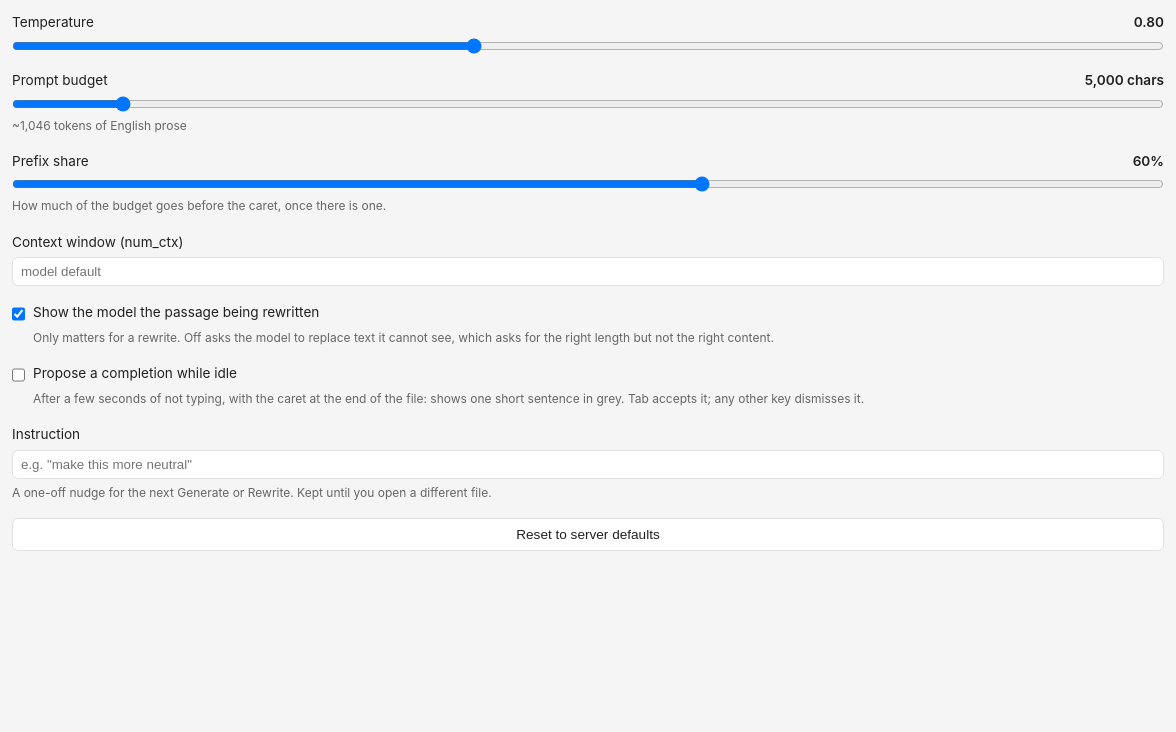
Scenario: GenerationSettings.vue › reset restores the servers defaults
Set the slider below "Temperature" to "1.9" at [1099, 46], box [12,38,1164,54]
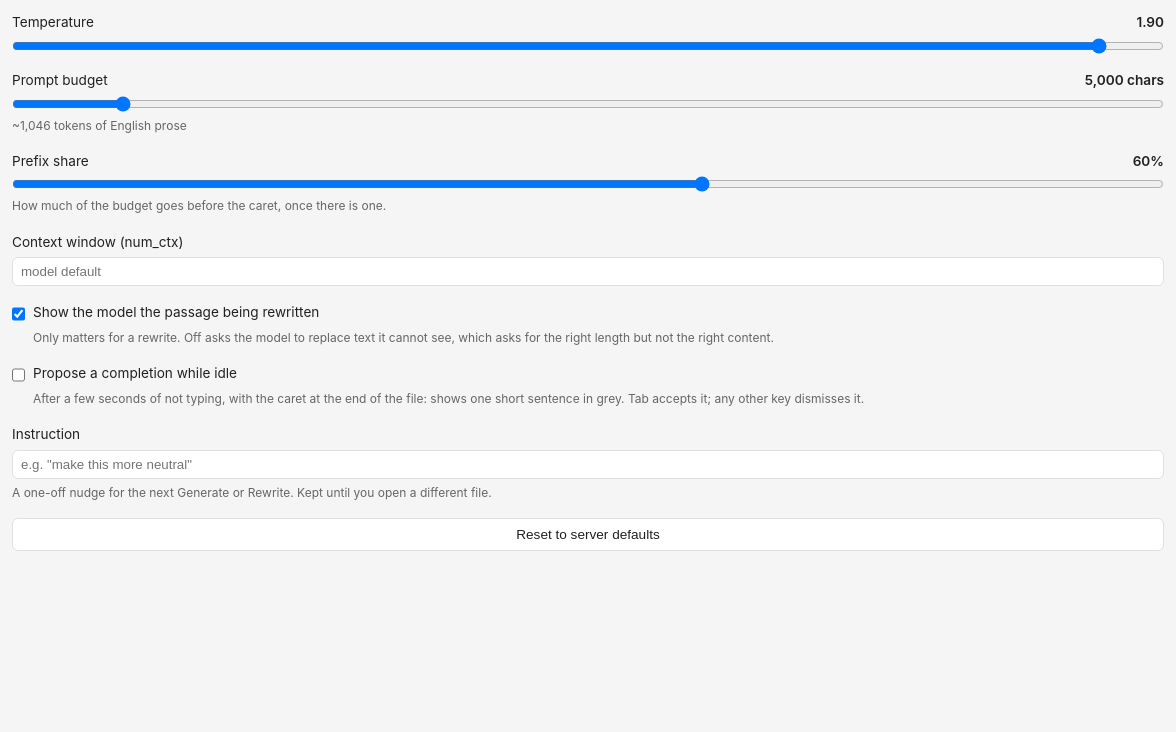
Click the button with class "reset" at [588, 535], box [12,518,1164,551]
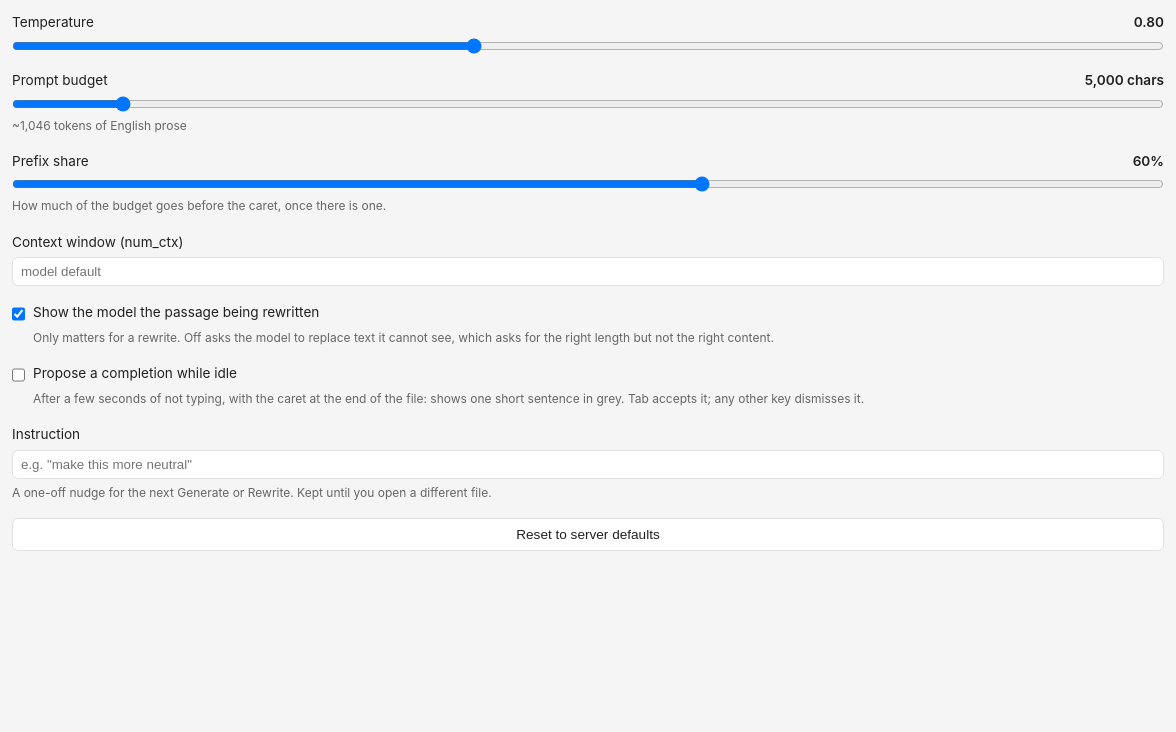
Now the slider below "Temperature" holds "0.8", box [12,38,1164,54]
